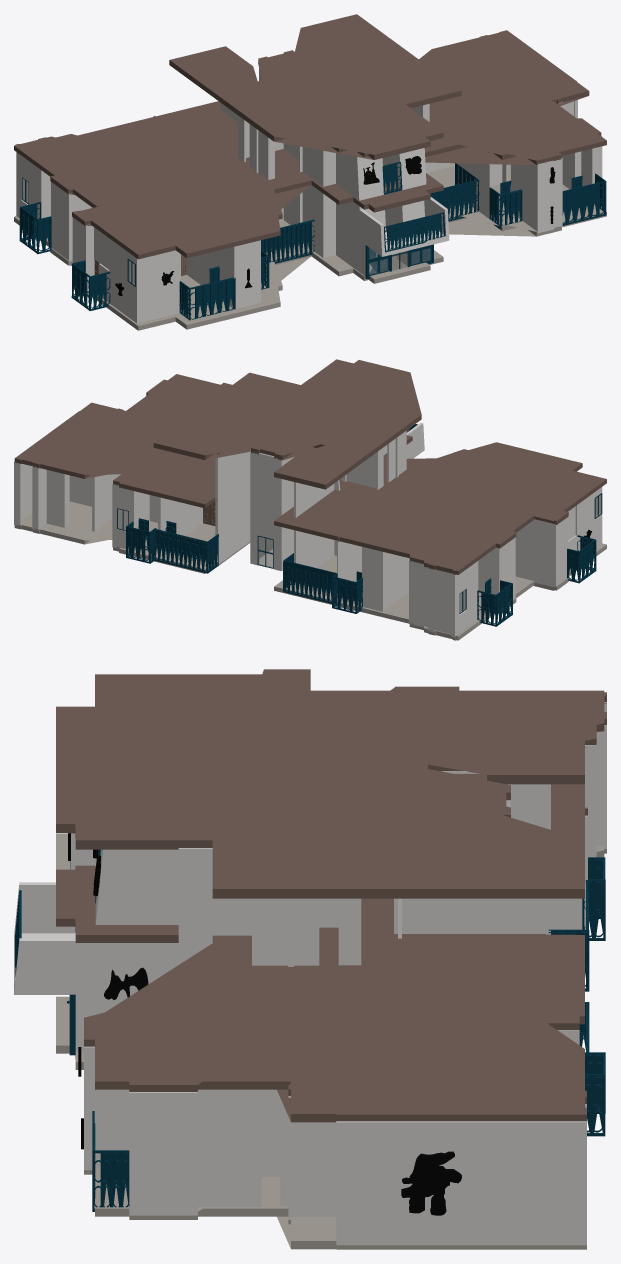
Rendered from Building.fbx.
3 views of the same model, one above another, from view 1: azimuth 30°, elevation 25°; view 2: azimuth 150°, elevation 25°; view 3: azimuth 270°, elevation 25° (orthographic). The views are drawn at different scales.
Parts seen in each view (by area): view 1: polySurface182, Building, polySurface185, polySurface206, pCube11, pCube3, polySurface141, polySurface191, pCube12, polySurface144, polySurface189, polySurface149 (+5 smaller); view 2: polySurface182, Building, polySurface185, polySurface206, pCube13, pCube5, wall, polySurface194, polySurface153, polySurface148, polySurface149, polySurface145 (+3 smaller); view 3: polySurface182, Building, polySurface185, polySurface206, sculpt:polySurface9, polySurface192, polySurface157, polySurface196, sculpt:polySurface11.
Boxes of the visible parts, x1,y1,x2,y2 form: polySurface182: (14,30,606,259); Building: (16,68,602,323); polySurface185: (169,14,461,159); polySurface206: (14,164,606,330); pCube11: (384,212,445,252); pCube3: (261,219,314,263); polySurface141: (188,277,235,320); polySurface191: (562,181,605,225); pCube12: (430,179,479,221); polySurface144: (89,271,110,310); polySurface189: (501,189,522,228); polySurface149: (20,206,38,253); polySurface182: (14,374,606,574); Building: (14,395,602,637); polySurface185: (153,359,421,489); polySurface206: (14,501,606,640); pCube13: (154,529,207,573); pCube5: (284,560,336,603); wall: (258,453,274,539); polySurface194: (126,526,150,563); polySurface153: (332,576,356,613); polySurface148: (477,590,497,626); polySurface149: (495,583,512,626); polySurface145: (579,539,595,582); polySurface182: (56,669,606,1122); Building: (14,702,606,1245); polySurface185: (56,726,584,898); polySurface206: (56,834,606,1249); sculpt:polySurface9: (401,1151,461,1215); polySurface192: (92,1150,129,1211); polySurface157: (582,879,605,940); polySurface196: (585,1074,604,1136); sculpt:polySurface11: (104,967,148,999).
Size of the model in its own units: 293 by 68.86 by 160.
